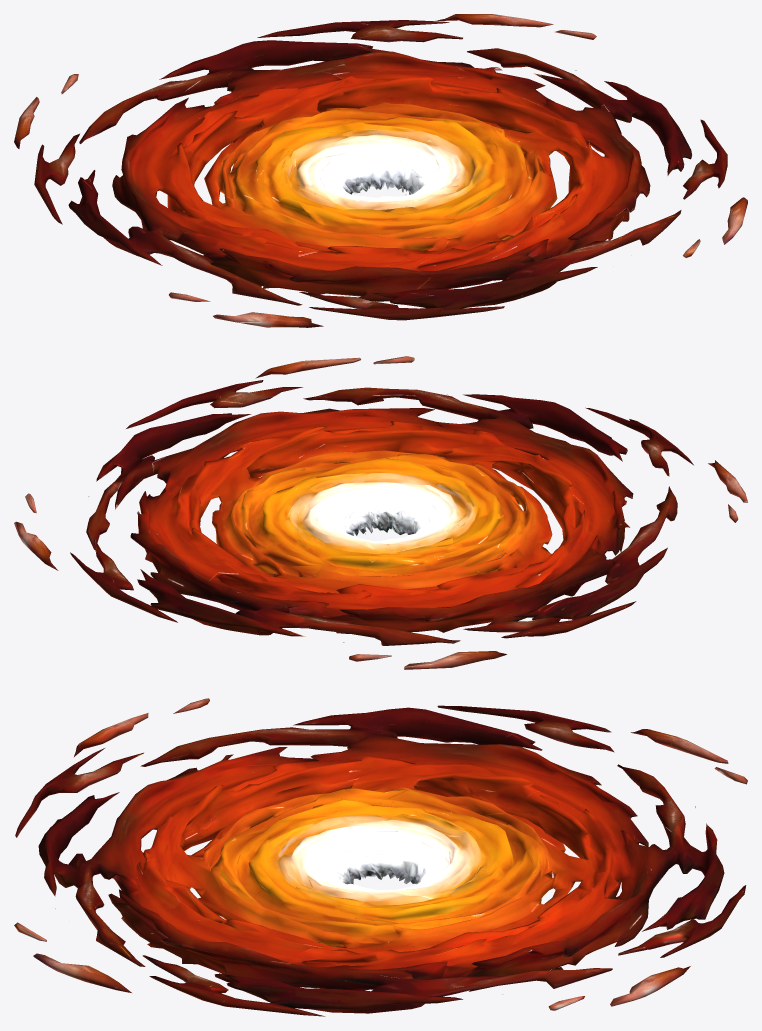
Rendered from black_hole.glb.
3 views of the same model, one above another, from view 1: azimuth 30°, elevation 25°; view 2: azimuth 150°, elevation 25°; view 3: azimuth 270°, elevation 25° (orthographic). The views are drawn at different scales.
Bounding box in the file's own units: 2 × 0.1638 × 2.
1 material, 1 textured.
